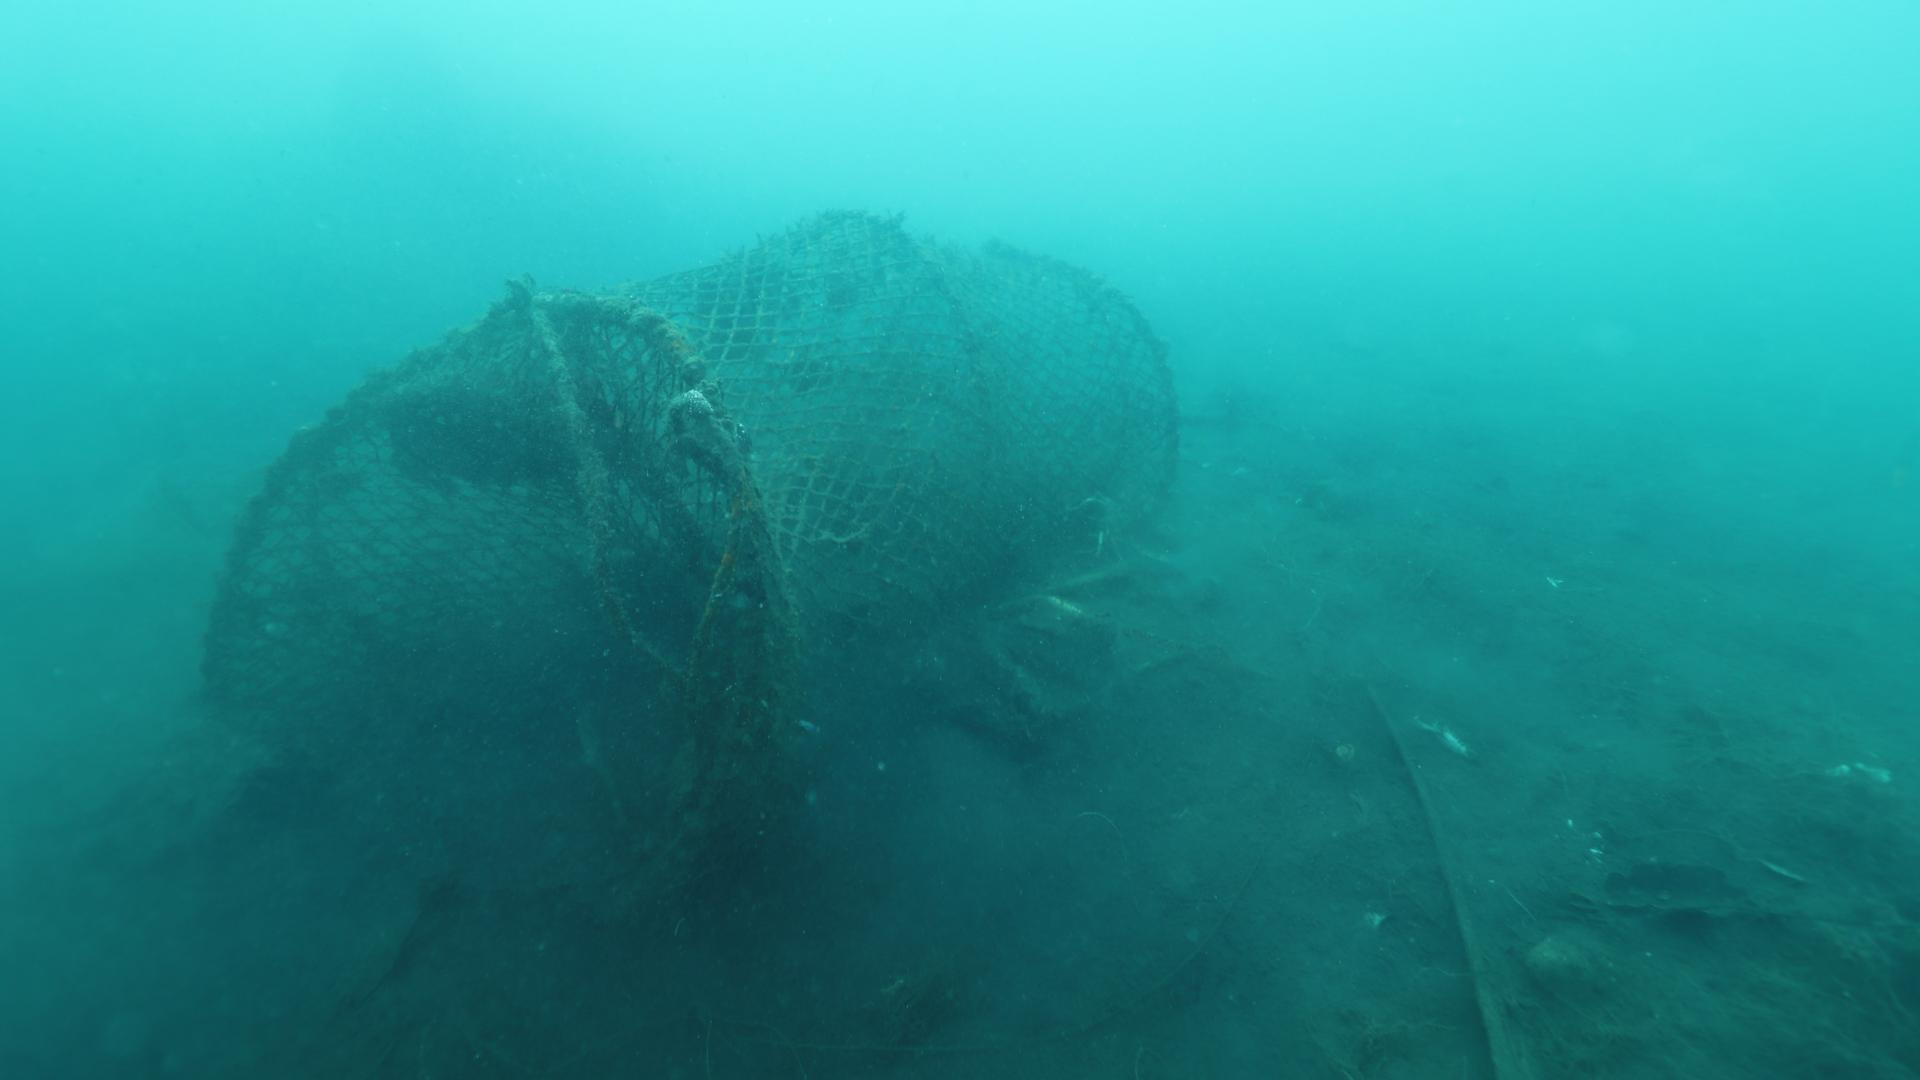spring fish trap: (199, 196, 1182, 926)
